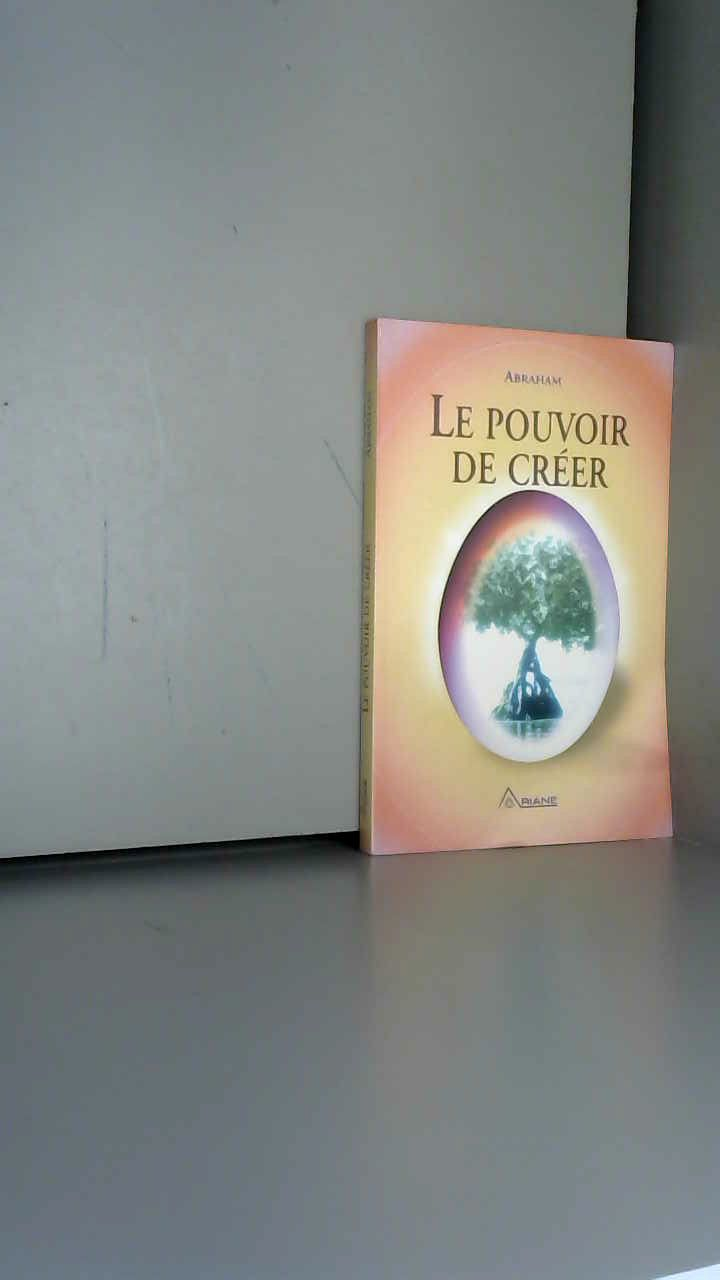book: (340, 290, 717, 925)
